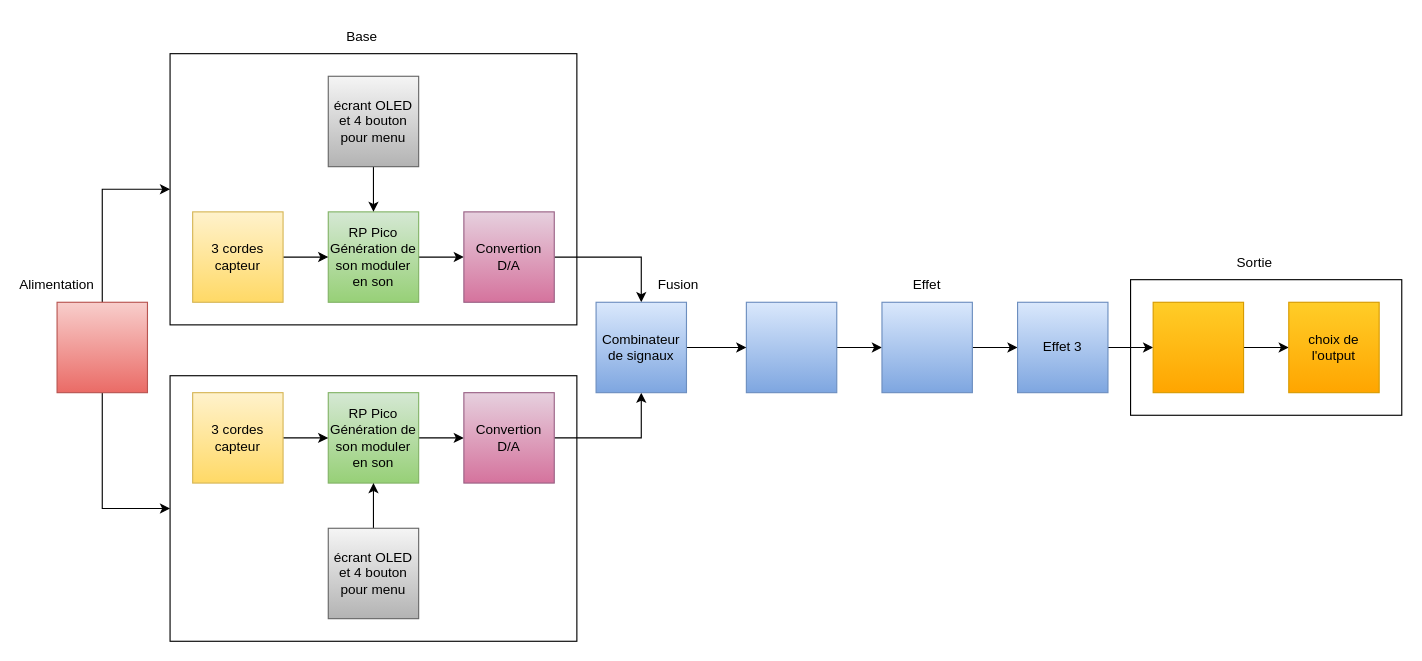
Some shapes in this 1422 by 661 pixel diagram are drawn without their labels. Here are the shapes that lost their labels. From the top down, the centre of each, then its label:
[101,347]: Source de tenion
[791,347]: Effet 1
[926,347]: Effet 2
[1198,347]: Amplification
